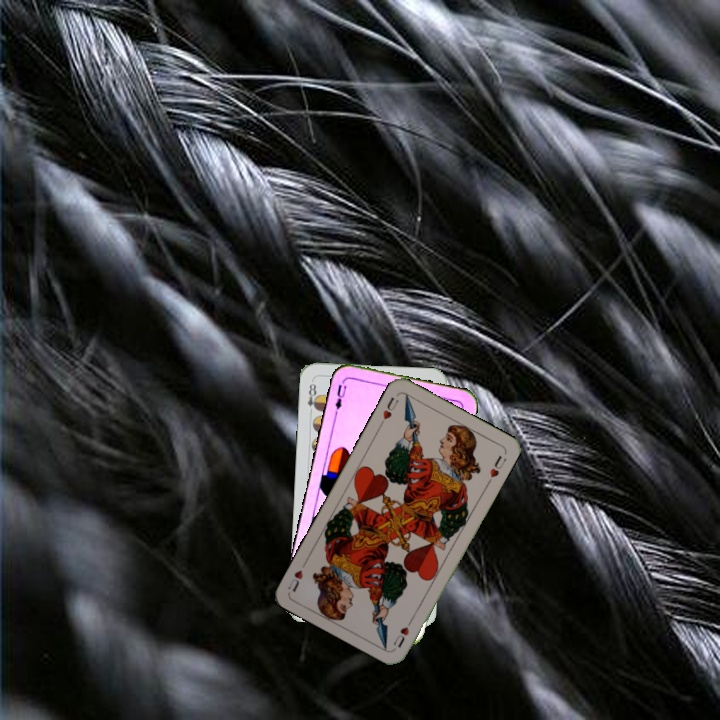E8: (304, 377, 321, 417)
EU: (331, 380, 349, 417)
HU: (389, 614, 416, 650), (376, 393, 401, 428)
